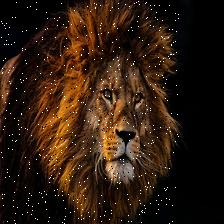Lion: (0, 0, 180, 224)
